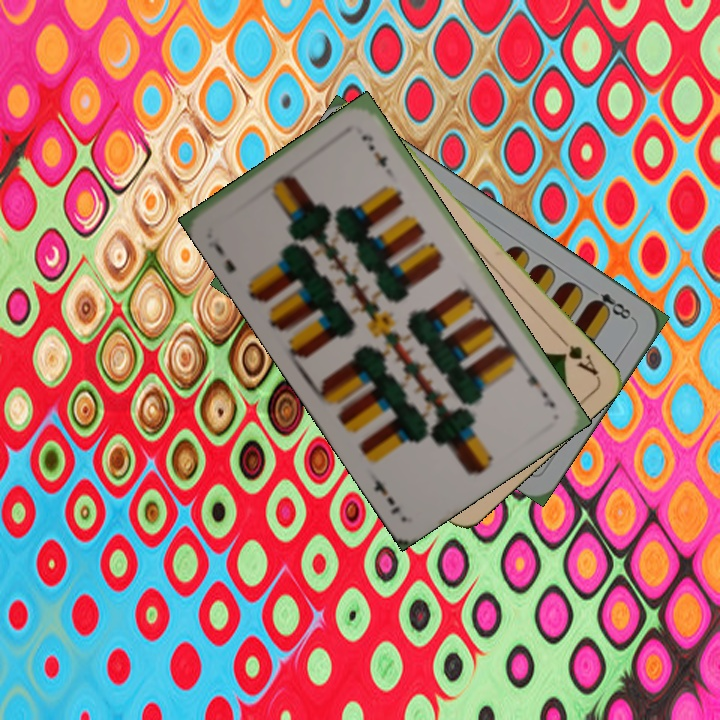E7: (519, 362, 558, 411), (206, 237, 239, 276)
E8: (586, 288, 637, 324)
GA: (555, 332, 601, 379)
